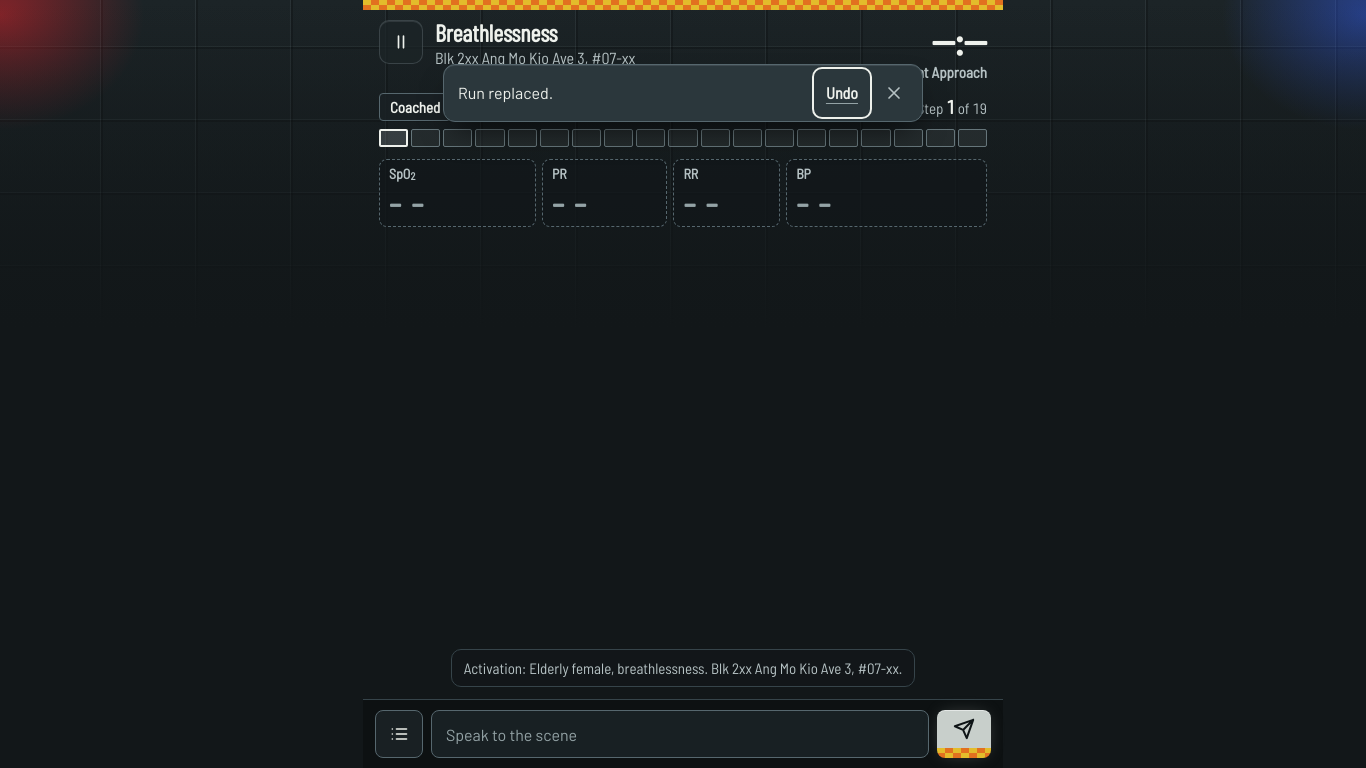
Test: Run: sending lapses "Run replaced." at once (Task 7 review M1) › a step tapped from the list lapses it too
Click the button named "Step list": (399,734) [375,710,423,758]
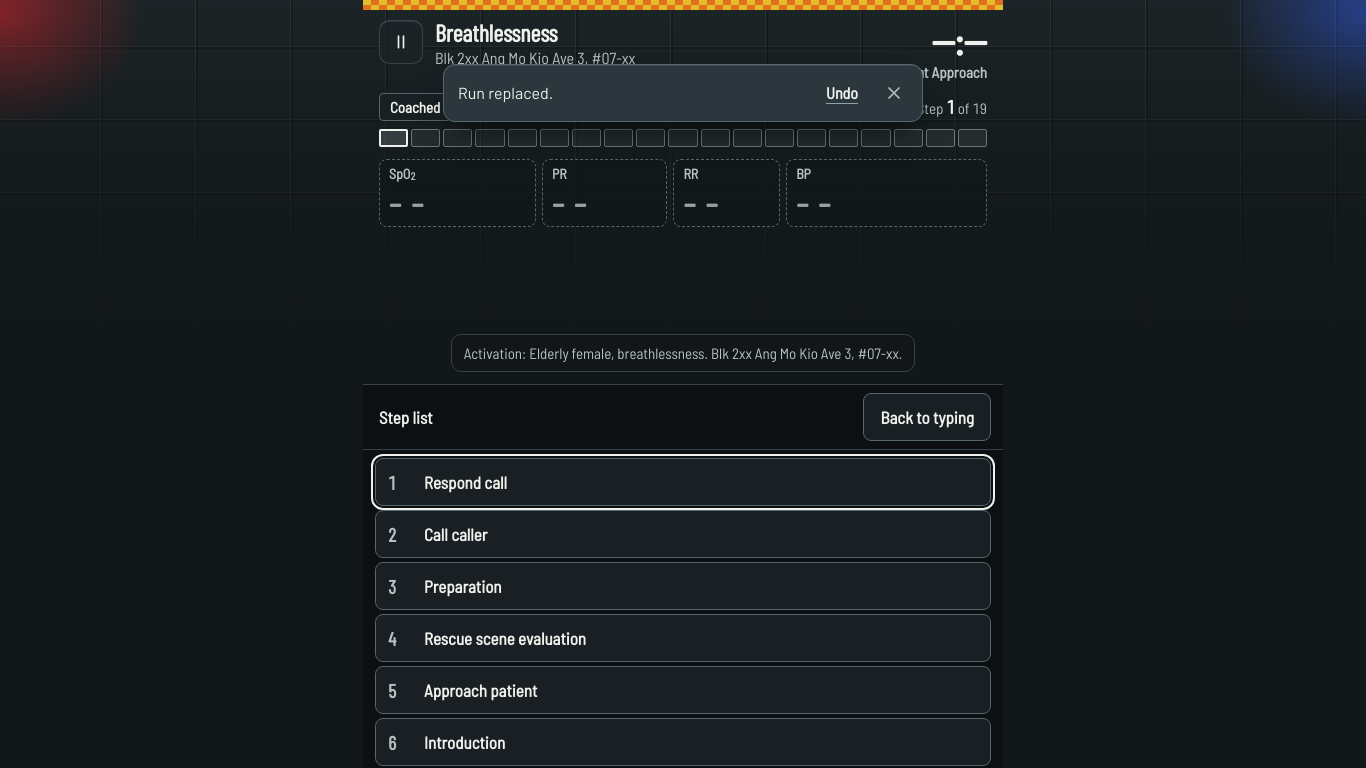
Click the button "1 Respond call": (466,482) [375,458,991,506]
Wait 200 ms
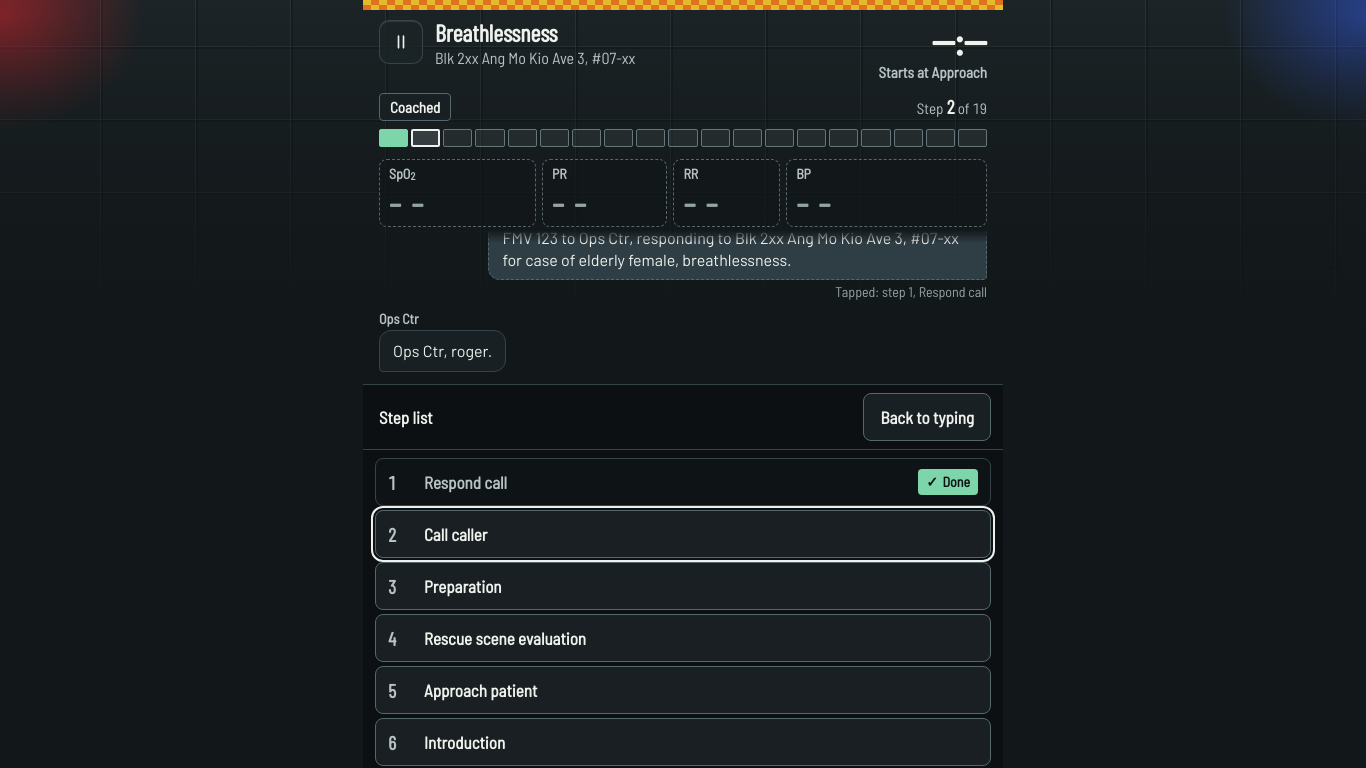
Expected: the button "Undo" is gone
